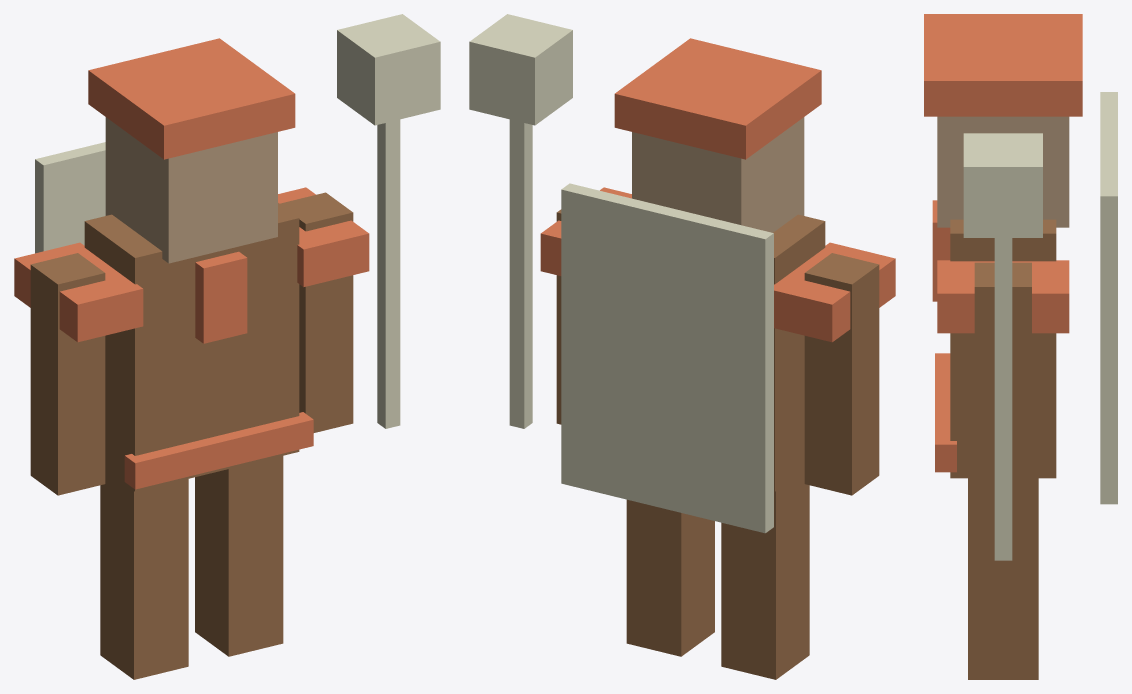
Rendered from 03_makoa_voxmere_watcher_near_redcliff.glb.
The picture shows the model from 3 angles, left to right: view 1: azimuth 30°, elevation 25°; view 2: azimuth 150°, elevation 25°; view 3: azimuth 270°, elevation 25°; orthographic projection. The views are drawn at different scales.
Visible parts, largest first — view 1: Makoa Voxmere, Watcher near Redcliff; view 2: Makoa Voxmere, Watcher near Redcliff; view 3: Makoa Voxmere, Watcher near Redcliff.
Part boxes in pixels (<box>): Makoa Voxmere, Watcher near Redcliff: <box>14,14,440,679</box>; Makoa Voxmere, Watcher near Redcliff: <box>469,14,895,679</box>; Makoa Voxmere, Watcher near Redcliff: <box>924,14,1117,679</box>.
Bounding box in the file's own units: 1.06 × 1.52 × 0.4511.
